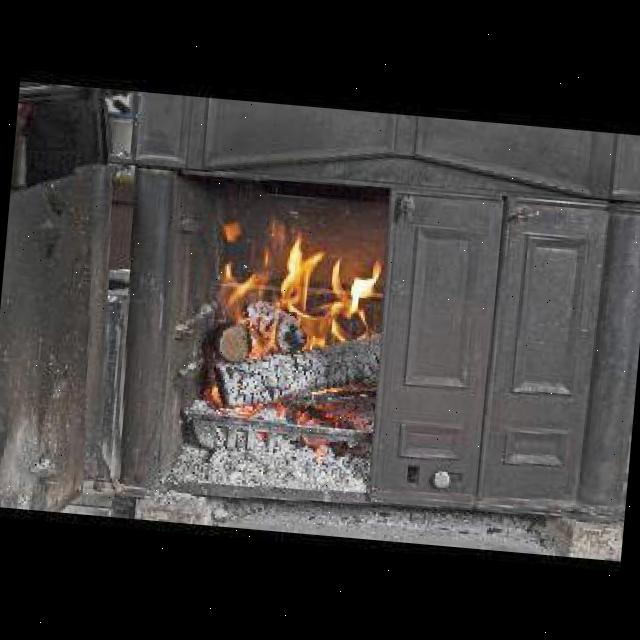fire: (199, 208, 383, 362)
